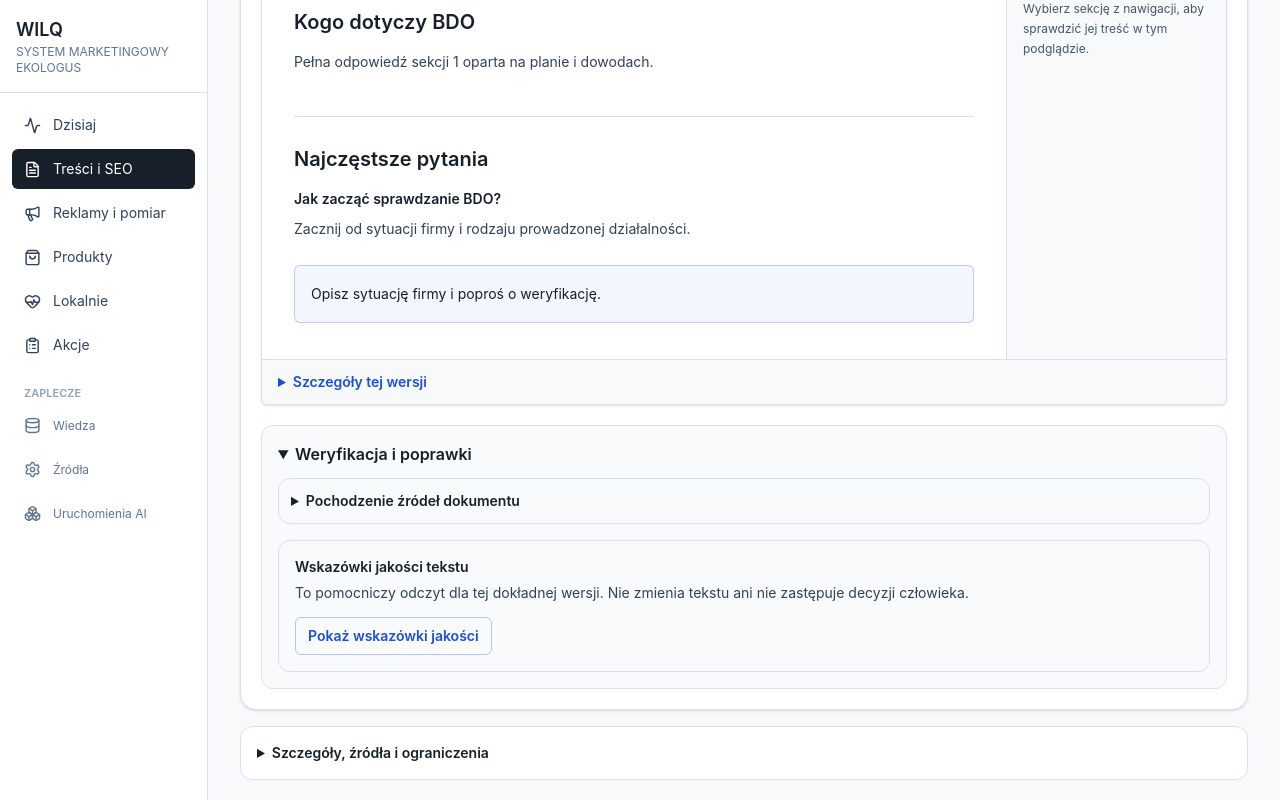
Test: ContentWorkflowSurface › reads advisory semantic guidance for the exact revision without changing the text or human review
(page scrolled)
What coordinates should you click on to do the following:
click the button "Pokaż wskazówki jakości"
I would click on:
 (393, 636)
Its box is [295, 616, 492, 654].
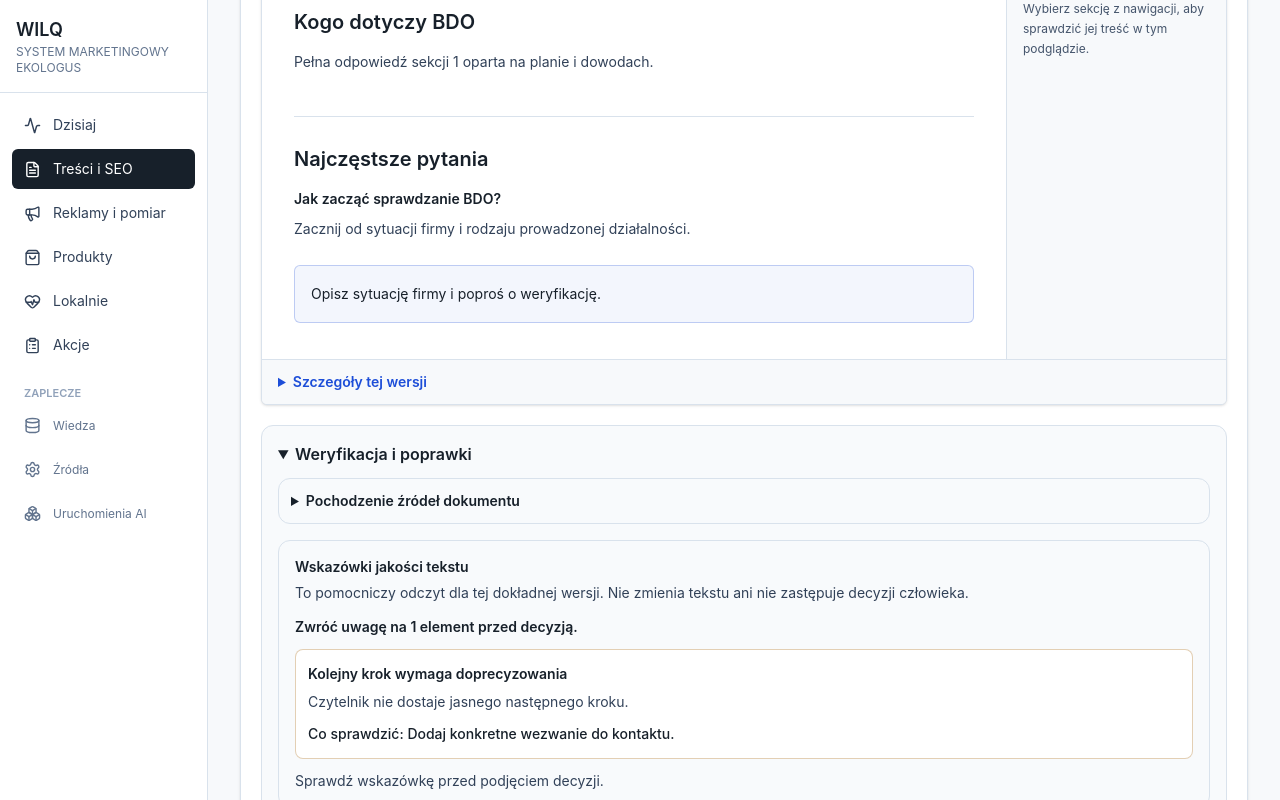
Result: the text "Kolejny krok wymaga doprecyzowania" is shown at [308, 664, 567, 682]
Result: the text "Co sprawdzić: Dodaj konkretne wezwanie do kontaktu." is shown at [308, 724, 674, 742]
